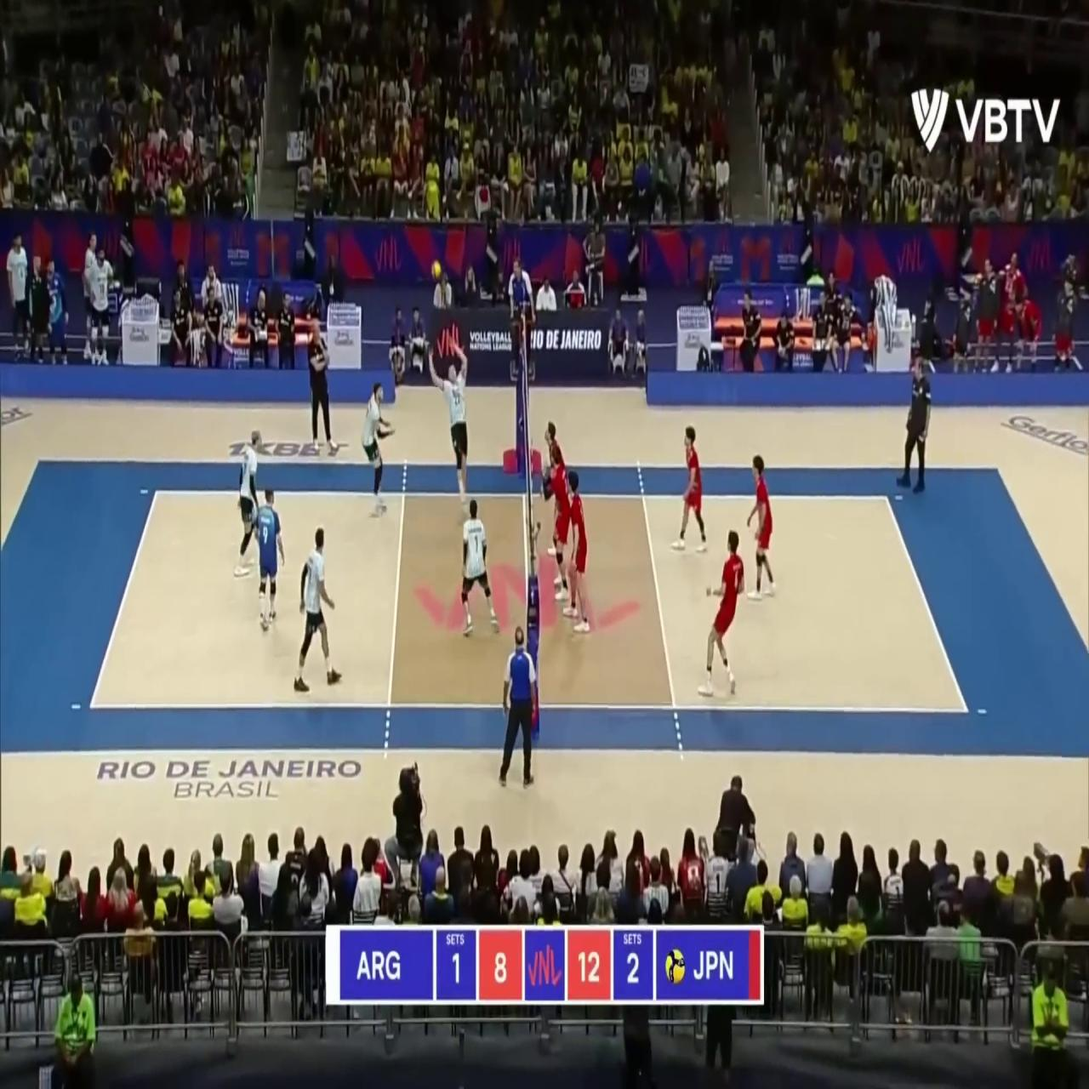ball: (430, 261, 441, 278)
